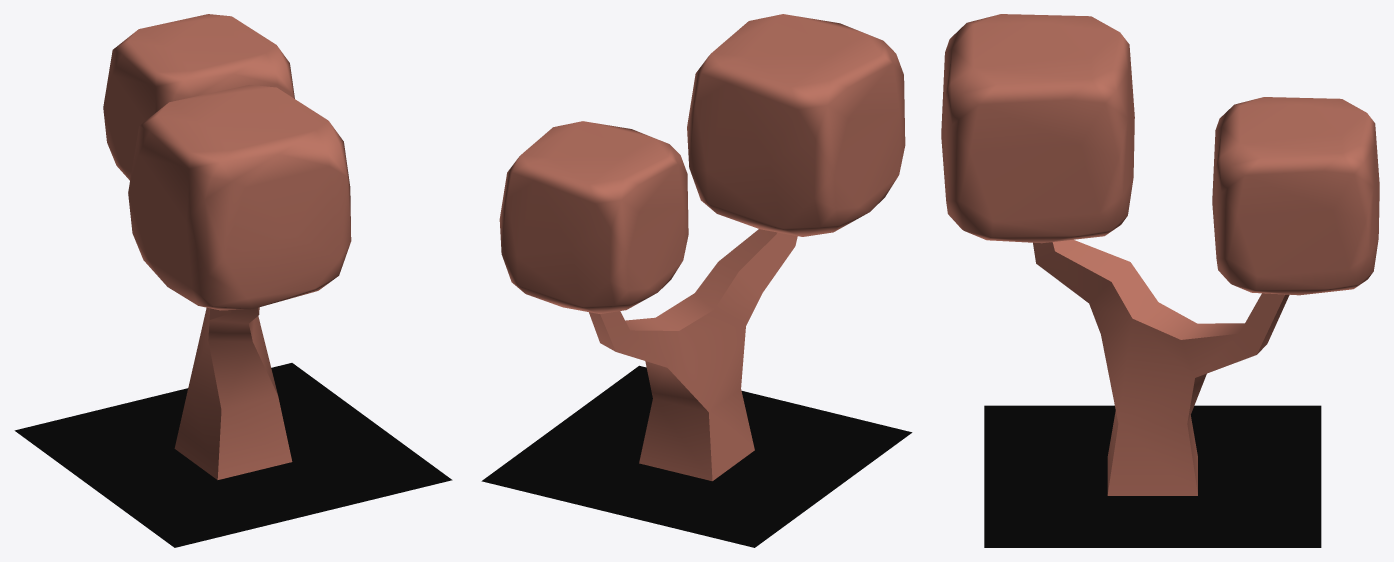
Rendered from tree_1.fbx.
3 views of the same model, side by side, from view 1: azimuth 30°, elevation 25°; view 2: azimuth 150°, elevation 25°; view 3: azimuth 270°, elevation 25° (orthographic). The views are drawn at different scales.
Parts seen in each view (by area): view 1: tree_1, shadow_1; view 2: tree_1, shadow_1; view 3: tree_1, shadow_1.
Boxes of the visible parts, x1,y1,x2,y2 form: tree_1: (103,14,351,479); shadow_1: (14,363,452,547); tree_1: (499,14,905,481); shadow_1: (481,365,912,547); tree_1: (941,14,1379,495); shadow_1: (984,405,1321,547).
Bounding box in the file's own units: 471 × 633 × 612.
